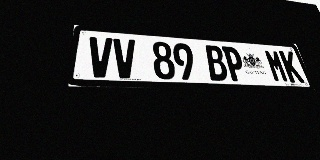8: (151, 41, 176, 80)
9: (172, 43, 197, 80)
B: (204, 45, 229, 81)
K: (278, 50, 305, 83)
M: (263, 49, 290, 82)
P: (221, 46, 247, 81)
V: (87, 36, 112, 78), (113, 38, 137, 78)
